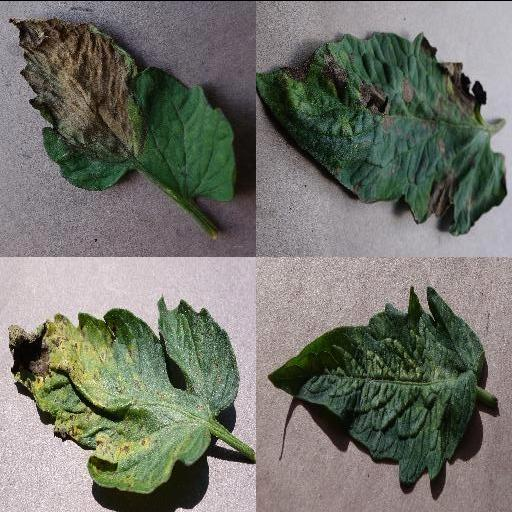Early Blight: (256, 31, 512, 235)
Late Blight: (8, 14, 238, 200)
Septoria: (7, 292, 239, 491)
Spider Mites: (266, 286, 488, 482)
